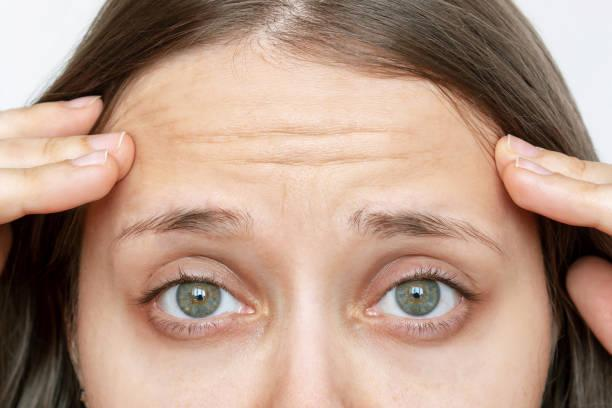Dry-Skin: (212, 104, 320, 192), (372, 343, 466, 408), (110, 346, 201, 408), (351, 116, 411, 194)
